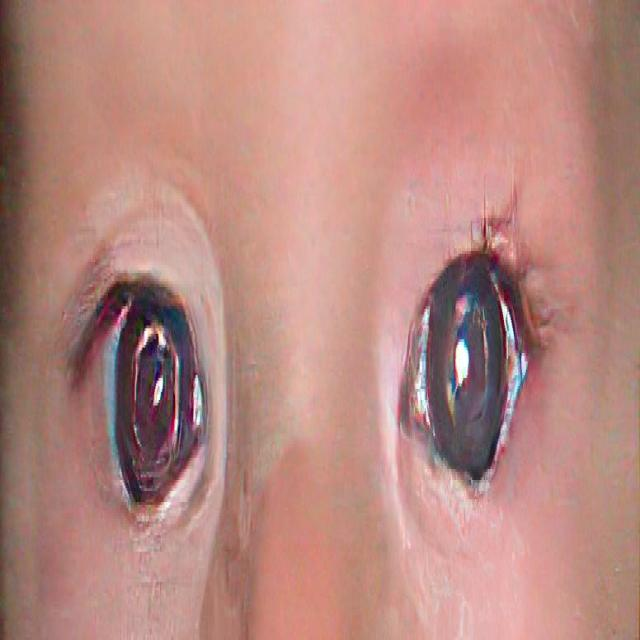reflexo-alterado: (60, 213, 228, 556), (398, 200, 546, 524)
